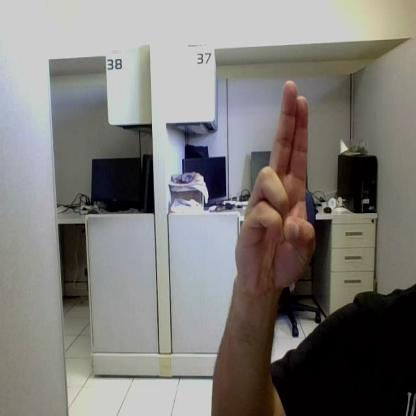U: (236, 82, 315, 292)
